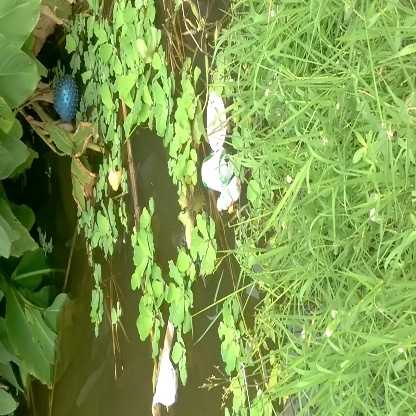ball: (45, 73, 88, 126)
